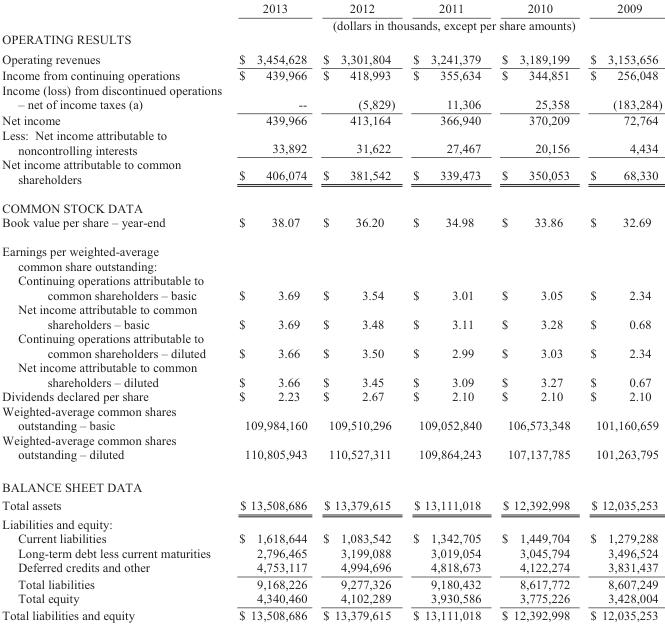table: (1, 1, 661, 621)
table column: (1, 1, 229, 621), (314, 1, 403, 621), (490, 1, 579, 621), (403, 1, 490, 621), (229, 1, 314, 621), (579, 1, 661, 621)
table column header: (1, 1, 661, 31)
table projected row header: (1, 236, 661, 272), (1, 470, 661, 495), (1, 192, 661, 214), (1, 31, 661, 48), (1, 514, 661, 530)
table row: (1, 432, 661, 470), (1, 156, 661, 192), (1, 236, 661, 272), (1, 82, 661, 112), (1, 127, 661, 156), (1, 272, 661, 301), (1, 301, 661, 330), (1, 330, 661, 359), (1, 359, 661, 388), (1, 403, 661, 432), (1, 470, 661, 495), (1, 192, 661, 214), (1, 214, 661, 236), (1, 495, 661, 514), (1, 48, 661, 66), (1, 31, 661, 48), (1, 66, 661, 82), (1, 514, 661, 530), (1, 559, 661, 575), (1, 590, 661, 606), (1, 1, 661, 16), (1, 16, 661, 31), (1, 112, 661, 127), (1, 388, 661, 403), (1, 530, 661, 545), (1, 575, 661, 590), (1, 606, 661, 621), (1, 545, 661, 559)
table spanning cell: (229, 16, 661, 31)
